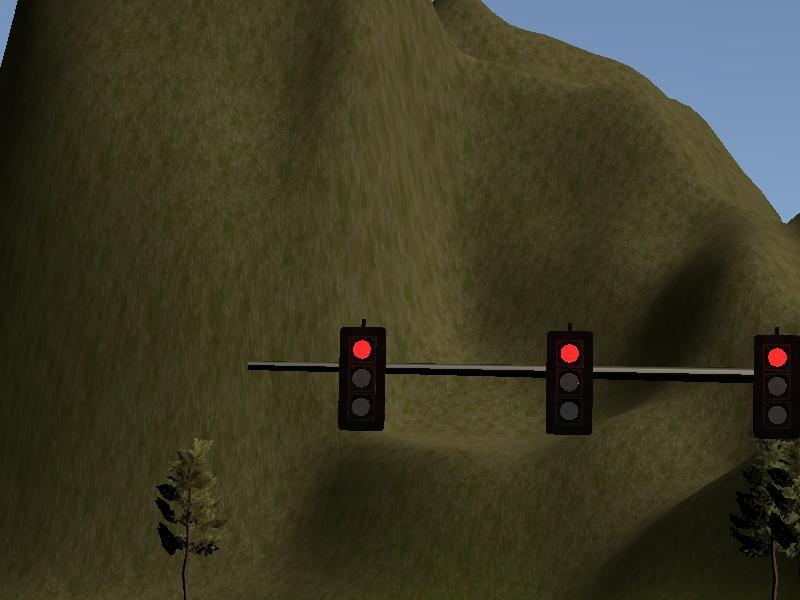RED: (754, 335, 800, 436), (546, 331, 592, 432), (337, 328, 383, 429)
